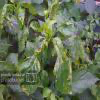Bell_pepper leaf spot: (52, 35, 73, 96), (16, 55, 40, 97), (69, 36, 85, 67), (34, 36, 48, 58), (17, 8, 26, 26)
